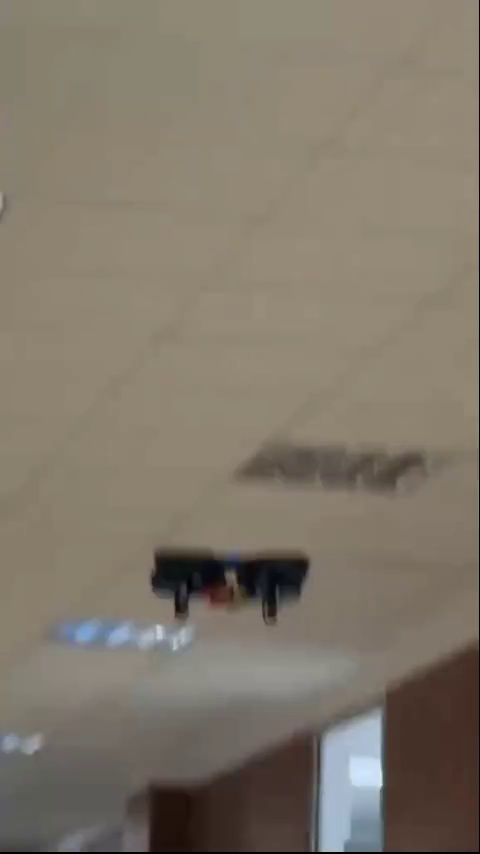drone: (150, 557, 313, 631)
